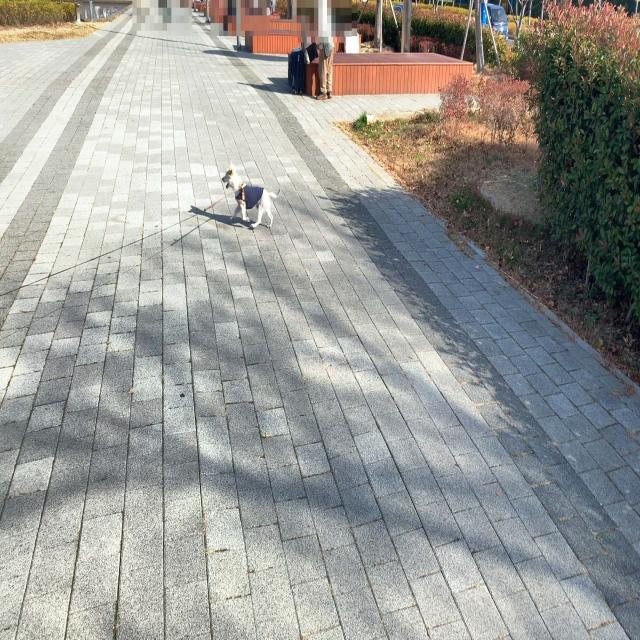Dog: (222, 162, 282, 229)
